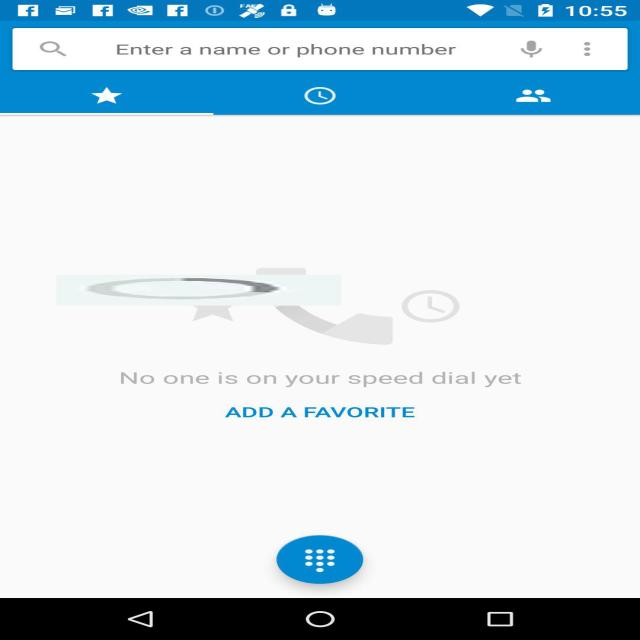misdirection: (56, 274, 342, 306)
